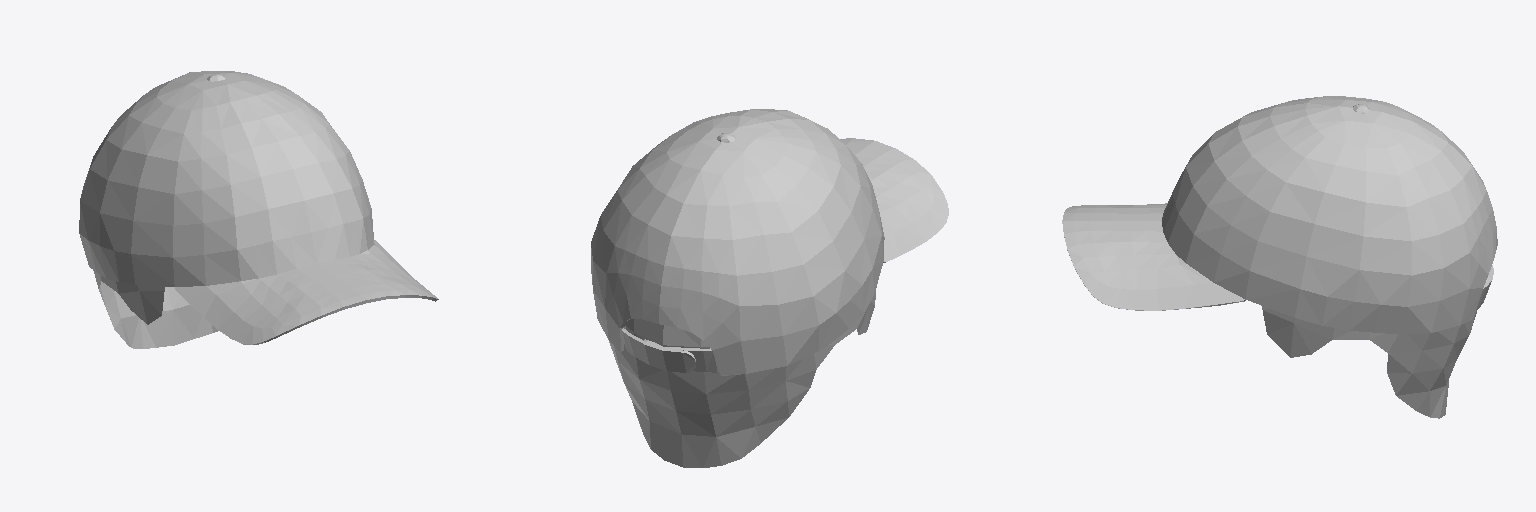
Rendered from BaseballHat_Hair_03.obj.
3 renders of one model, left to right at view 1: azimuth 30°, elevation 25°; view 2: azimuth 150°, elevation 25°; view 3: azimuth 270°, elevation 25°, orthographic.
Size of the model in its own units: 16.56 by 20.08 by 26.26.